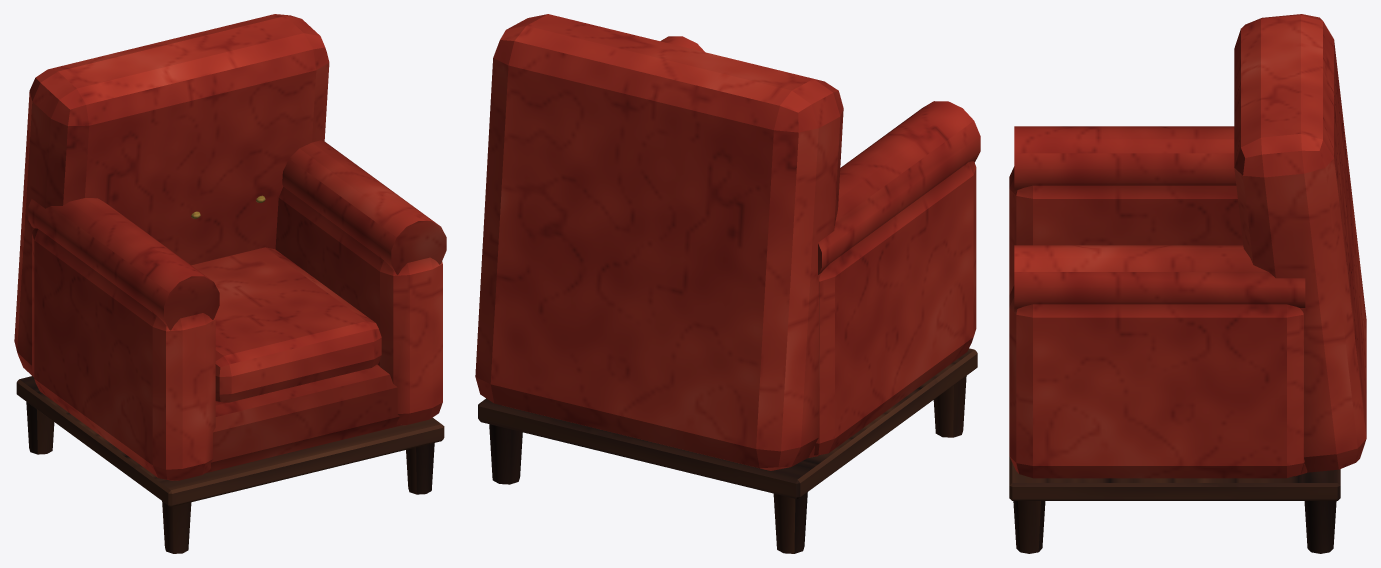
File: armchair_red.glb
The picture shows the model from 3 angles, left to right: view 1: azimuth 30°, elevation 25°; view 2: azimuth 150°, elevation 25°; view 3: azimuth 270°, elevation 25°; orthographic projection. The views are drawn at different scales.
Visible parts, largest first — view 1: armchair_red; view 2: armchair_red; view 3: armchair_red.
Part boxes in pixels (bbox=[...]): armchair_red: bbox=[14, 14, 446, 553]; armchair_red: bbox=[475, 14, 980, 553]; armchair_red: bbox=[1009, 14, 1366, 553].
Bounding box in the file's own units: 0.71 × 0.9022 × 0.7119.
Materials: 4 (4 with a texture image).
